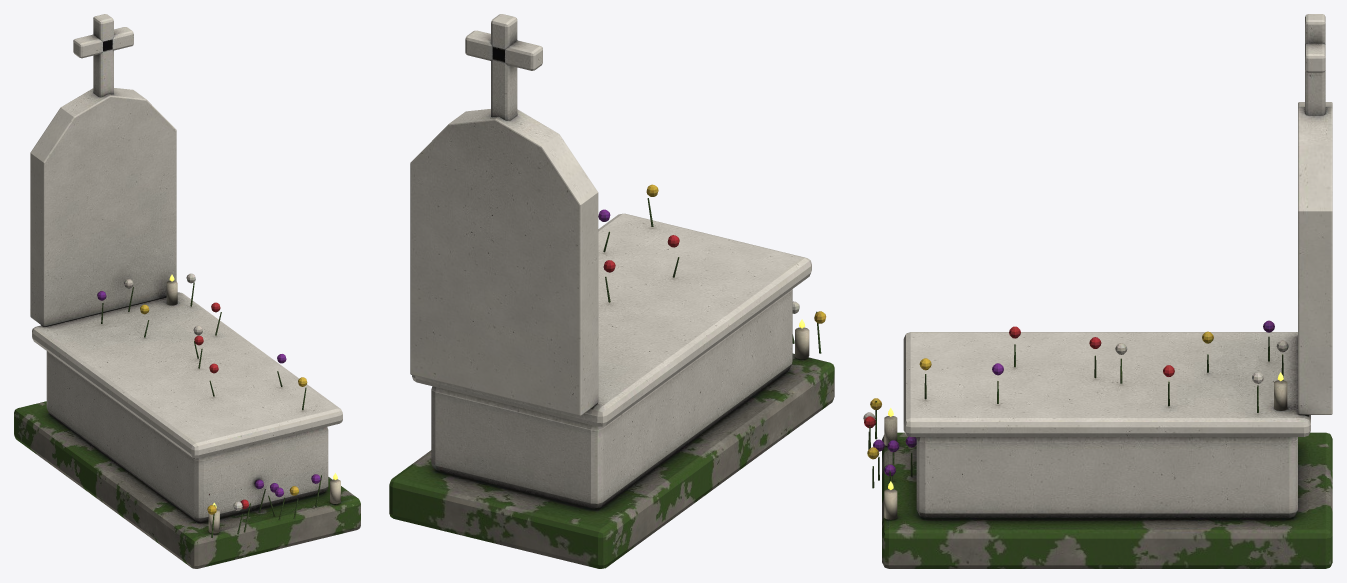
Rendered from brejo_tumulo_viuva.glb.
3 views of the same model, side by side, from view 1: azimuth 30°, elevation 25°; view 2: azimuth 150°, elevation 25°; view 3: azimuth 270°, elevation 25° (orthographic). The views are drawn at different scales.
Parts seen in each view (by area): view 1: brejo_tumulo_viuva_tronco; view 2: brejo_tumulo_viuva_tronco; view 3: brejo_tumulo_viuva_tronco.
Part boxes in pixels (x1,y1,x2,y2): brejo_tumulo_viuva_tronco: [14, 14, 360, 568]; brejo_tumulo_viuva_tronco: [389, 14, 834, 568]; brejo_tumulo_viuva_tronco: [863, 14, 1332, 568].
Bounding box in the file's own units: 1.4 × 3.2 × 2.71.
Materials: 4 (1 with a texture image).
